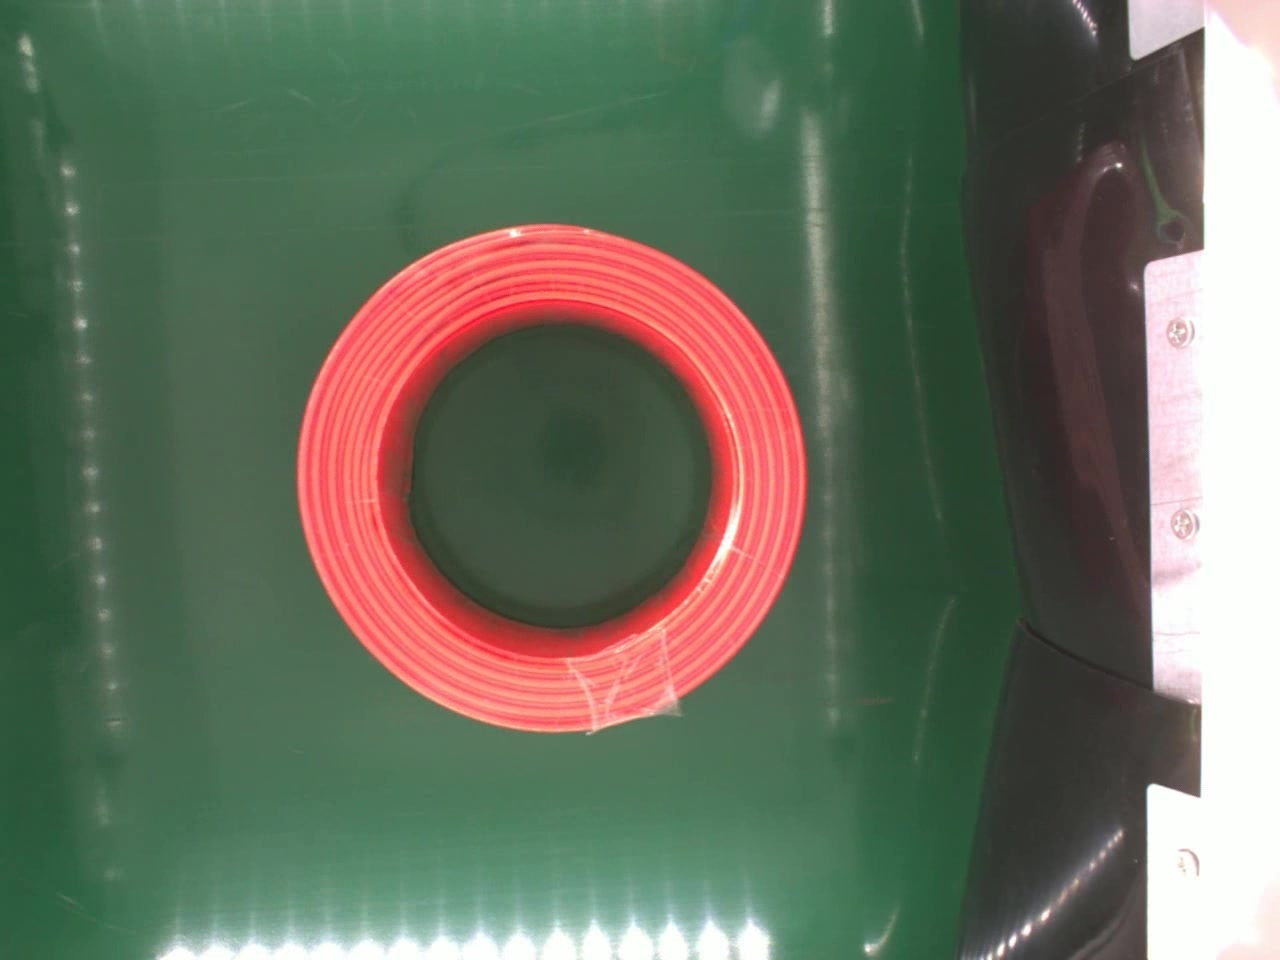red: (294, 218, 806, 736)
